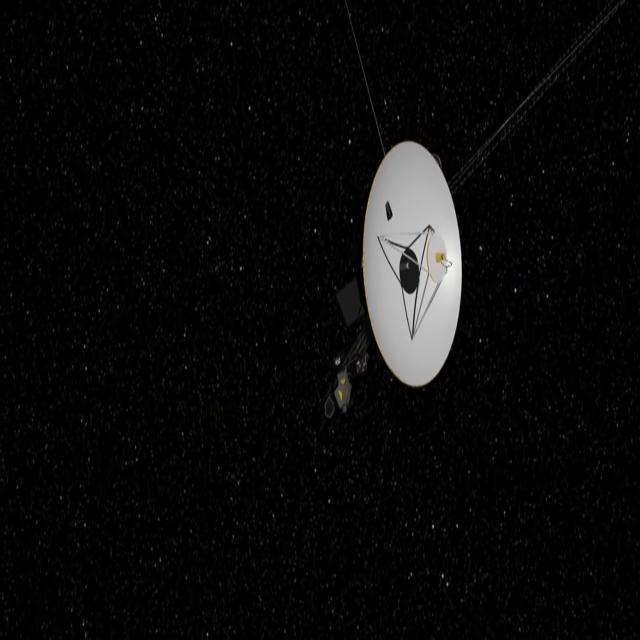sat: (291, 90, 494, 450)
